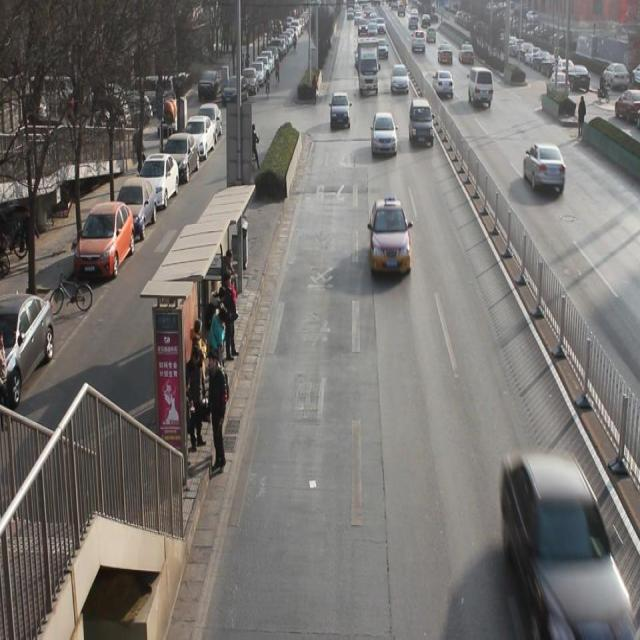bus: (358, 40, 380, 96)
car: (501, 455, 619, 616), (367, 200, 415, 278), (522, 144, 566, 197), (408, 101, 436, 147), (372, 112, 398, 155), (329, 93, 352, 132), (433, 70, 456, 101), (392, 64, 411, 96), (438, 43, 454, 65), (460, 42, 475, 63), (378, 36, 390, 61)
truck: (468, 69, 495, 108)
